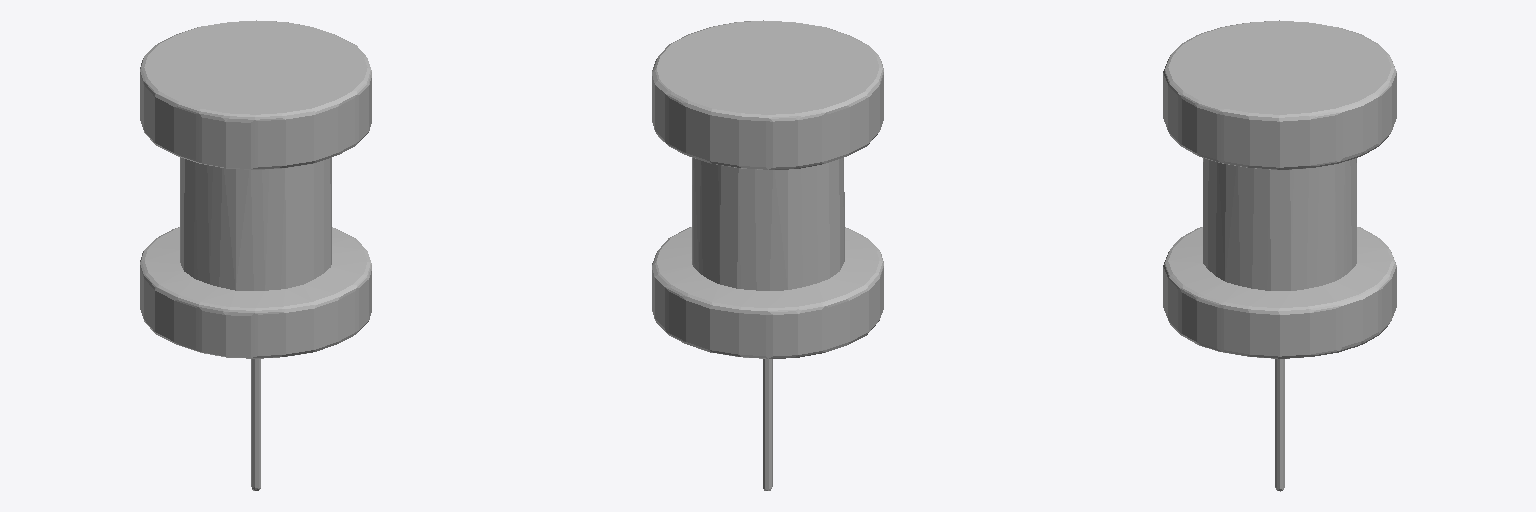
URDF robot description (root):
<?xml version="1.0"?>
<robot name="root">
  <link name="base_link">
    <visual>
      <origin xyz="0 0 0" rpy="0 0 0" />
      <geometry>
        <mesh filename="../meshes/unidex_sem_Thumbtack-17aa537d3f70e0998c5d696f6e844329_010.obj" scale="1.0000E+00 1.0000E+00 1.0000E+00" />
      </geometry>
      <material name="">
        <color rgba="7.50E-01 7.50E-01 7.50E-01 1" />
      </material>
    </visual>
    <collision>
      <origin xyz="0 0 0" rpy="0 0 0" />
      <geometry>
        <mesh filename="../meshes/unidex_sem_Thumbtack-17aa537d3f70e0998c5d696f6e844329_010.obj" scale="1.0000E+00 1.0000E+00 1.0000E+00" />
      </geometry>
    </collision>
  </link>
</robot>

--- Facts derived from the render (not from the file) ---
The picture shows the robot from 3 angles, left to right: view 1: azimuth 30°, elevation 25°; view 2: azimuth 150°, elevation 25°; view 3: azimuth 270°, elevation 25°; orthographic projection.
Model root with 1 links and 0 joints (none), rooted at base_link, posed every joint at zero.
Links seen in each view (by area): view 1: base_link; view 2: base_link; view 3: base_link.
Boxes of the visible links, bbox=[...] form: base_link: bbox=[140, 20, 371, 490]; base_link: bbox=[652, 20, 883, 490]; base_link: bbox=[1163, 20, 1396, 491].
Size in the robot's own frame: 0.0883 by 0.0883 by 0.1766 metres.
1 mesh visuals loaded from 1 distinct referenced files (1 OBJ).
